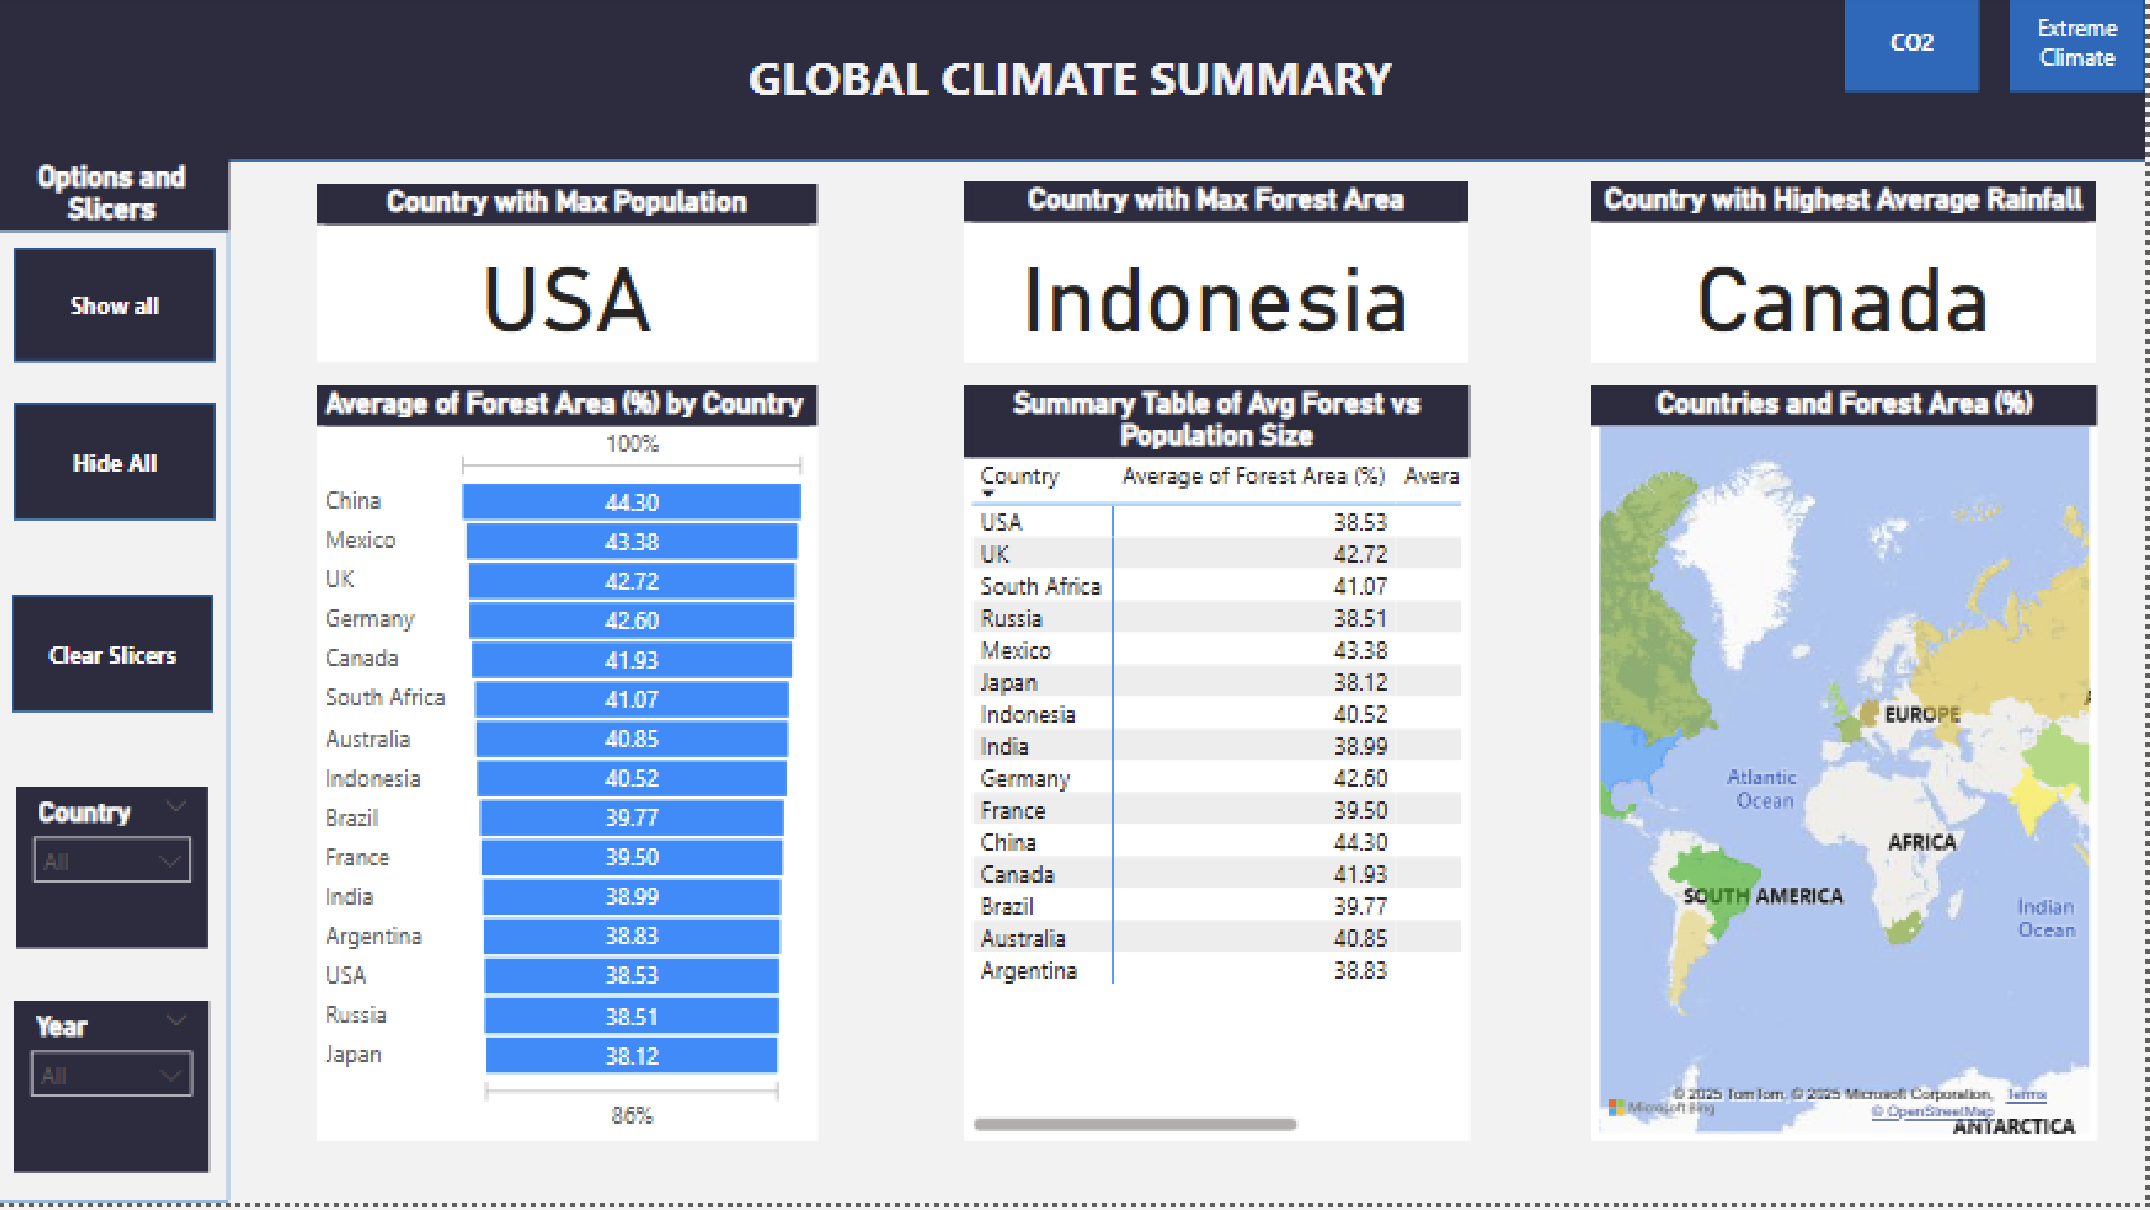

What the dashboard file says about the page in this screenshot:
{"tool":"powerbi","page":{"name":"Climate Forest Area","canvas":[1280,720],"ordinal":2},"visuals":[{"type":"shape","box":[0,0,1280,100.6],"z":0},{"type":"card","title":"Country with Max Population","fields":{"Values":["Min(climate_change_dataset.Country)"]},"box":[192,114,298,106],"z":1000},{"type":"card","title":"Country with Max Forest Area","fields":{"Values":["Min(climate_change_dataset.Country)"]},"box":[576,112,300,108],"z":2000},{"type":"card","title":"Country with Highest Average Rainfall","fields":{"Values":["Min(climate_change_dataset.Country)"]},"box":[950,112,300,108],"z":3000},{"type":"funnel","fields":{"Category":["climate_change_dataset.Country"],"Y":["Avg(climate_change_dataset.Forest Area (%))"]},"box":[192,233.5,298.4,448.9],"z":4000},{"type":"pivotTable","title":"Summary Table of Avg Forest vs Population Size","fields":{"Rows":["climate_change_dataset.Country"],"Values":["Avg(climate_change_dataset.Forest Area (%))","Avg(climate_change_dataset.Population)"]},"box":[576,233.5,301,448.9],"z":5000},{"type":"filledMap","title":"Countries and Forest Area (%)","fields":{"Category":["climate_change_dataset.Country"],"Series":["climate_change_dataset.Forest Area (%)"]},"box":[949.6,233.5,301,448.9],"z":6000},{"type":"shape","box":[1198.7,0,80.4,59.7],"z":7000},{"type":"shape","box":[1100.1,0,80.4,59.7],"z":8000},{"type":"shape","title":"Options and Slicers","box":[0,99.7,139.8,620.3],"z":9000},{"type":"shape","box":[12,244,120,70],"z":10000},{"type":"shape","box":[10,358,120,70],"z":11000},{"type":"slicer","fields":{"Values":["climate_change_dataset.Country"]},"box":[13,472.2,114.2,96],"z":12000},{"type":"slicer","fields":{"Values":["climate_change_dataset.Year"]},"box":[12,600,116,102],"z":13000},{"type":"shape","box":[12,152,120,68],"z":14000}]}

Visuals, with their boxes in screenshot pixels (x1, y1, x2, y2), scaled from the page's 1280x720 canvas onto the 2150x1210 screenshot:
shape: 0:0:2149:169
"Country with Max Population" card: 322:192:823:370
"Country with Max Forest Area" card: 968:188:1471:370
"Country with Highest Average Rainfall" card: 1596:188:2100:370
funnel - climate_change_dataset.Country x Avg(climate_change_dataset.Forest Area (%)): 322:392:824:1147
"Summary Table of Avg Forest vs Population Size" pivotTable: 968:392:1473:1147
"Countries and Forest Area (%)" filledMap: 1595:392:2101:1147
shape: 2013:0:2148:100
shape: 1848:0:1983:100
"Options and Slicers" shape: 0:168:235:1209
shape: 20:410:222:528
shape: 17:602:218:719
slicer - climate_change_dataset.Country: 22:794:214:955
slicer - climate_change_dataset.Year: 20:1008:215:1180
shape: 20:255:222:370
